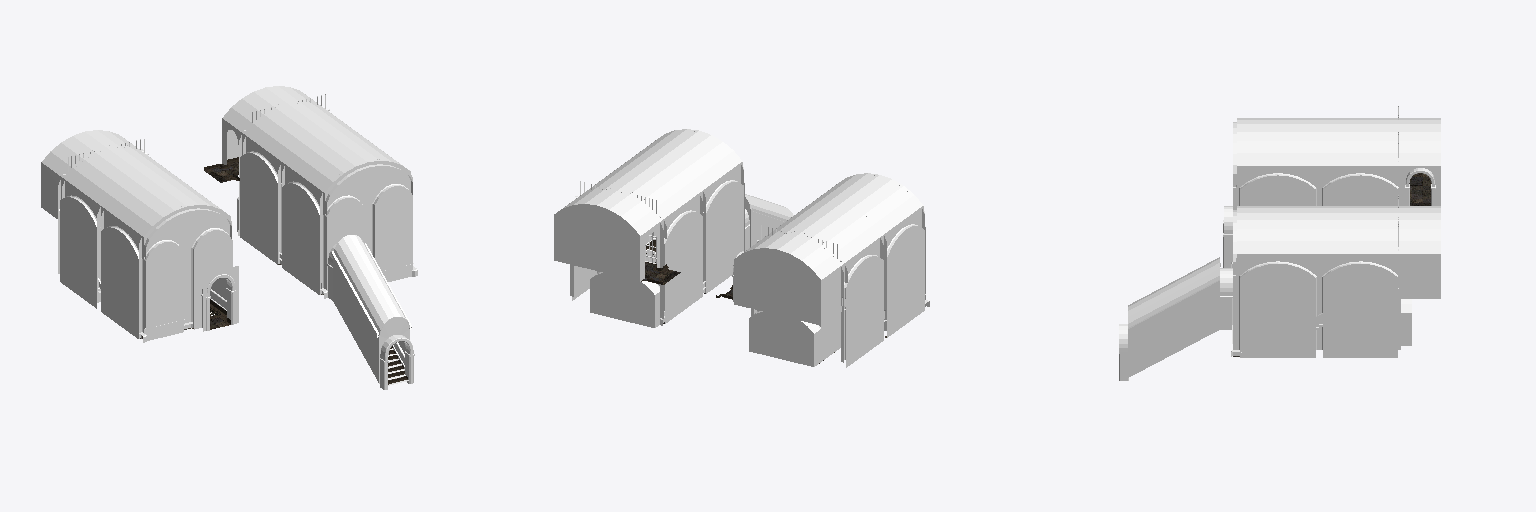
3 views of the same model, side by side, from view 1: azimuth 30°, elevation 25°; view 2: azimuth 150°, elevation 25°; view 3: azimuth 270°, elevation 25° (orthographic).
Visible parts, largest first — view 1: mesh7, mesh3, mesh4, mesh5, mesh2, mesh6; view 2: mesh7, mesh3; view 3: mesh7, mesh3, mesh4, mesh6.
Part boxes in pixels (x1,y1,x2,y2): mesh7: (41,86,412,385); mesh3: (58,101,413,389); mesh4: (141,149,414,362); mesh5: (142,157,407,384); mesh2: (59,209,417,368); mesh6: (140,162,323,338); mesh7: (554,129,925,367); mesh3: (570,131,924,362); mesh7: (1128,118,1440,377); mesh3: (1119,122,1434,380); mesh4: (1119,168,1435,353); mesh6: (1233,173,1431,356).
Bounding box in the file's own units: 18.99 × 11.56 × 19.32.
Materials: 9 (3 with a texture image).